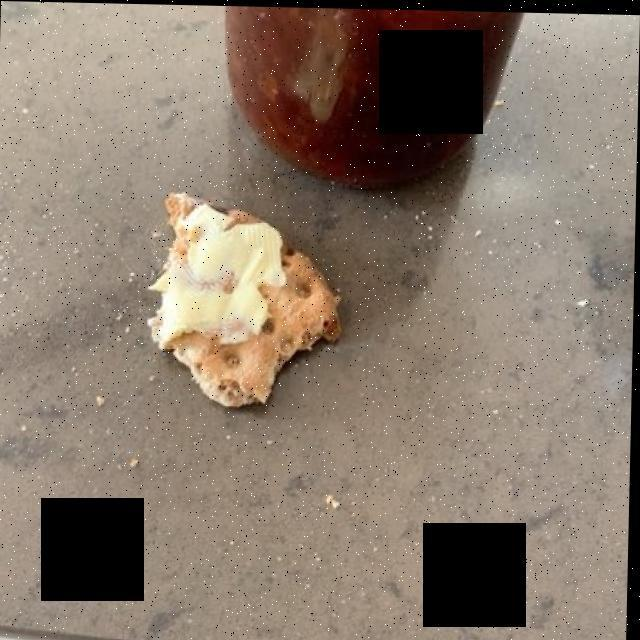bread: (150, 191, 345, 411)
butter: (163, 211, 273, 340)
